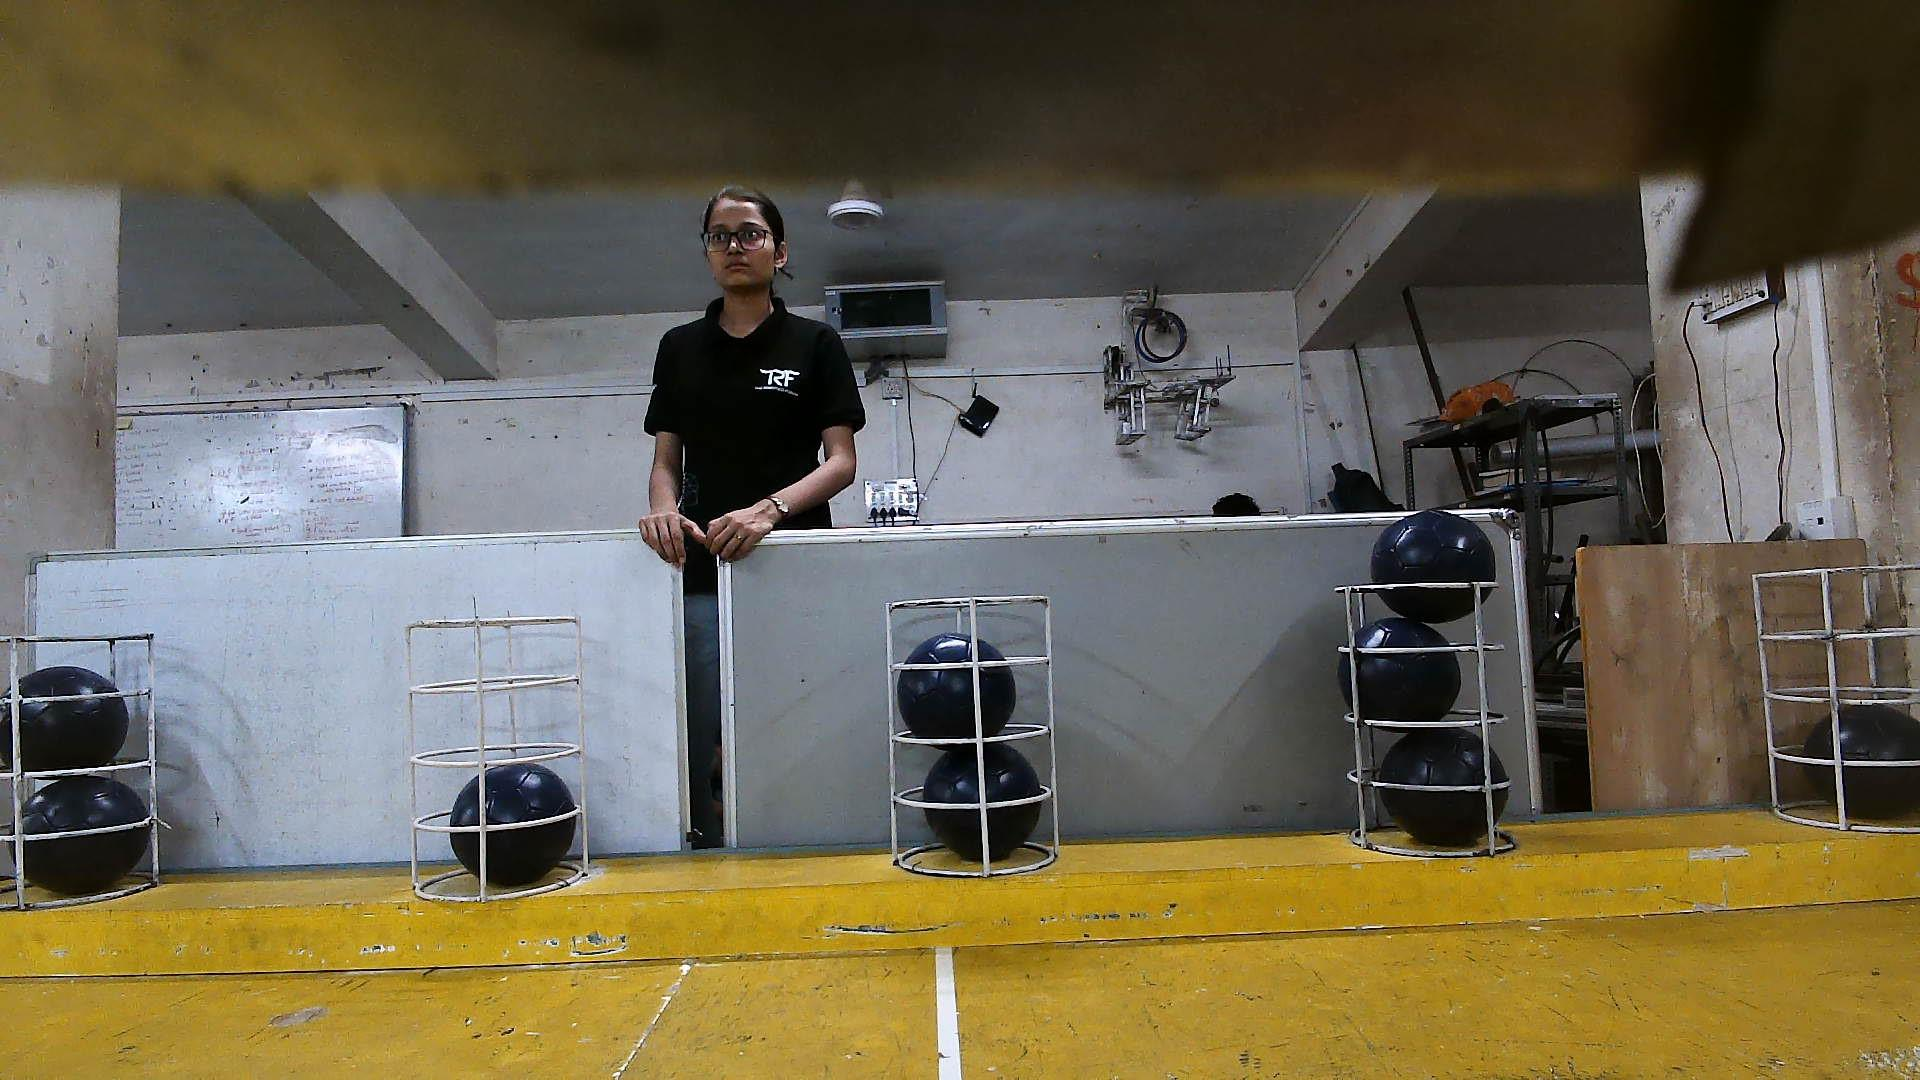dhoka: (8, 771, 148, 890), (452, 761, 578, 885), (1385, 728, 1516, 844), (1, 666, 129, 779), (1342, 617, 1466, 732), (899, 630, 1018, 749), (927, 744, 1044, 858), (1374, 508, 1493, 621), (1813, 708, 1920, 819)
